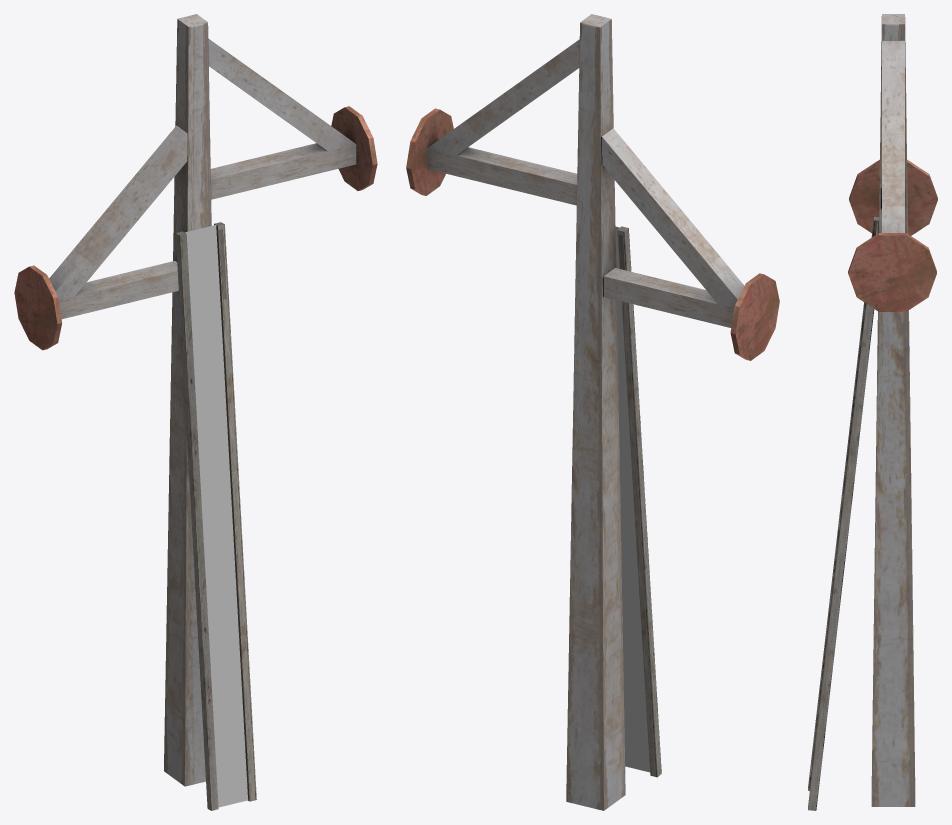
Rendered from SkiLiftGround_Tower.obj.
3 views of the same model, side by side, from view 1: azimuth 30°, elevation 25°; view 2: azimuth 150°, elevation 25°; view 3: azimuth 270°, elevation 25° (orthographic). The views are drawn at different scales.
Visible parts, largest first — view 1: Column_Cube.003, Cube.002_Cube.011, arm.001_Cube.005, arm_Cube.005, Cube.001_Cube.009, Cube_Cube.009, wheel.001_Circle, wheel_Circle; view 2: Column_Cube.003, arm.001_Cube.005, arm_Cube.005, Cube.002_Cube.011, Cube.001_Cube.009, wheel.001_Circle, wheel_Circle; view 3: Column_Cube.003, wheel_Circle, Cube_Cube.009, arm_Cube.005, wheel.001_Circle, Cube.001_Cube.009.
Part boxes in pixels (left/top/right/bottom): Column_Cube.003: left=164, top=14, right=211, bottom=786; Cube.002_Cube.011: left=185, top=225, right=247, bottom=807; arm.001_Cube.005: left=49, top=125, right=187, bottom=319; arm_Cube.005: left=208, top=38, right=356, bottom=199; Cube.001_Cube.009: left=175, top=231, right=218, bottom=810; Cube_Cube.009: left=214, top=222, right=256, bottom=801; wheel.001_Circle: left=14, top=265, right=61, bottom=350; wheel_Circle: left=331, top=106, right=377, bottom=190; Column_Cube.003: left=566, top=14, right=625, bottom=810; arm.001_Cube.005: left=602, top=128, right=744, bottom=327; arm_Cube.005: left=427, top=39, right=579, bottom=205; Cube.002_Cube.011: left=615, top=226, right=650, bottom=772; Cube.001_Cube.009: left=617, top=226, right=661, bottom=777; wheel.001_Circle: left=730, top=273, right=779, bottom=360; wheel_Circle: left=406, top=108, right=453, bottom=195; Column_Cube.003: left=871, top=14, right=915, bottom=806; wheel_Circle: left=848, top=233, right=936, bottom=311; Cube_Cube.009: left=808, top=304, right=874, bottom=810; arm_Cube.005: left=882, top=40, right=904, bottom=232; wheel.001_Circle: left=849, top=159, right=937, bottom=235; Cube.001_Cube.009: left=808, top=216, right=879, bottom=790.
Size of the model in its own units: 3.11 by 7.01 by 1.06.
